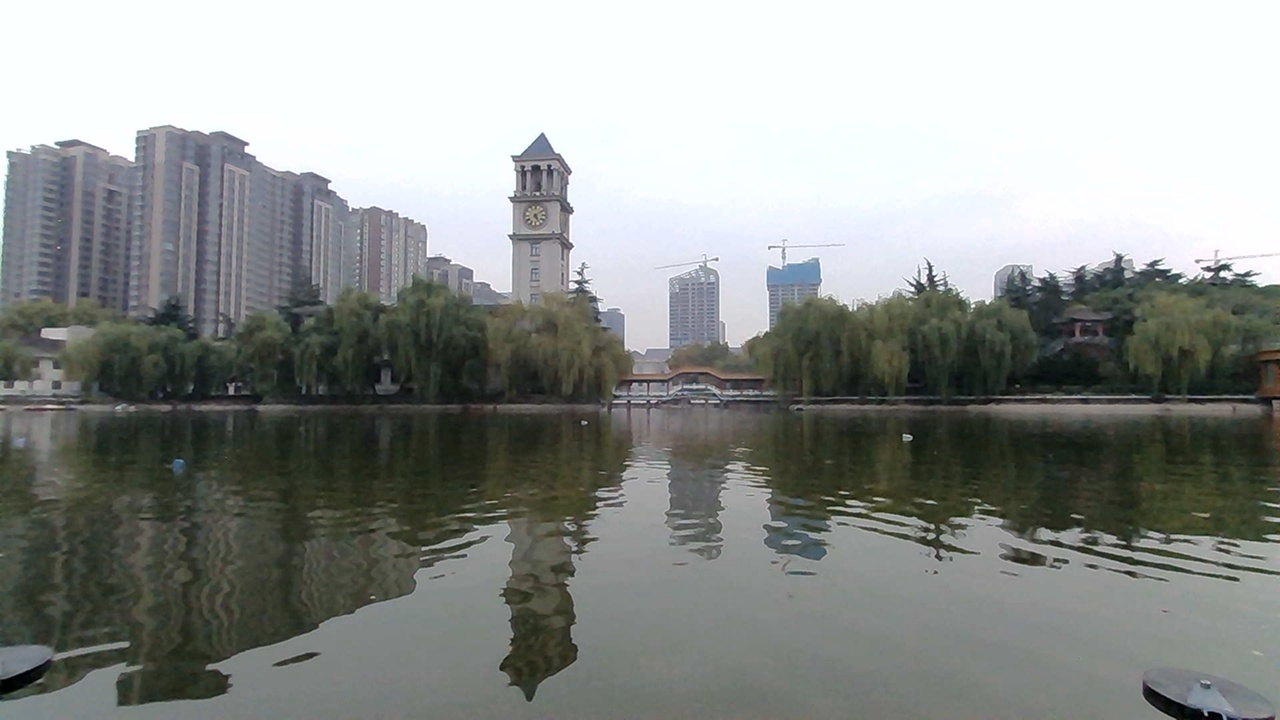bottle: (8, 421, 41, 453), (164, 454, 201, 482), (893, 424, 925, 453)
